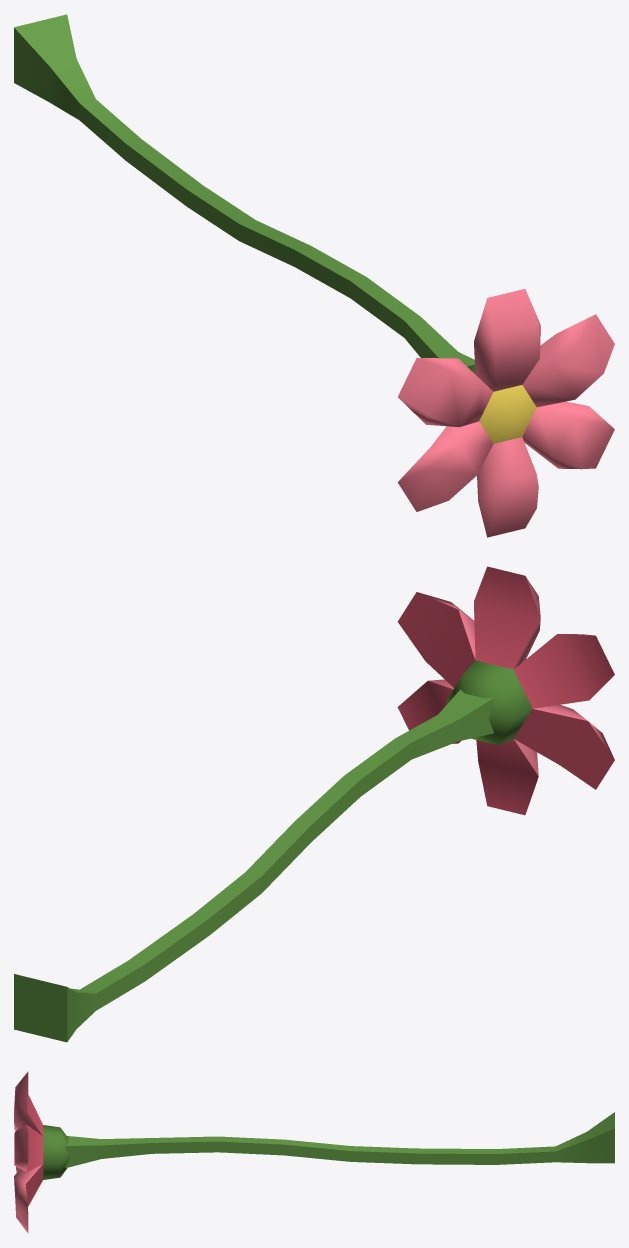
The model's file is FlowerStick.fbx.
3 views of the same model, one above another, from view 1: azimuth 30°, elevation 25°; view 2: azimuth 150°, elevation 25°; view 3: azimuth 270°, elevation 25° (orthographic). The views are drawn at different scales.
Parts seen in each view (by area): view 1: FlowerStick_mesh; view 2: FlowerStick_mesh; view 3: FlowerStick_mesh.
Boxes of the visible parts, <box> form: FlowerStick_mesh: <box>14,14,614,537</box>; FlowerStick_mesh: <box>14,566,614,1042</box>; FlowerStick_mesh: <box>14,1071,614,1233</box>.
Size of the model in its own units: 13.22 by 13.92 by 50.24.
